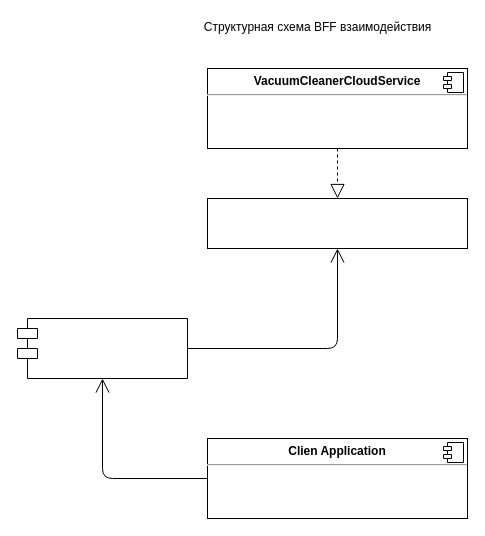
This 485x536 diagram has some shape labels left out. The centre of each missing label's shape, as x and y in pixels:
"BFF-service" belongs at point 102,348.
"«interface» VacuumCleanerService API" belongs at point 337,223.
